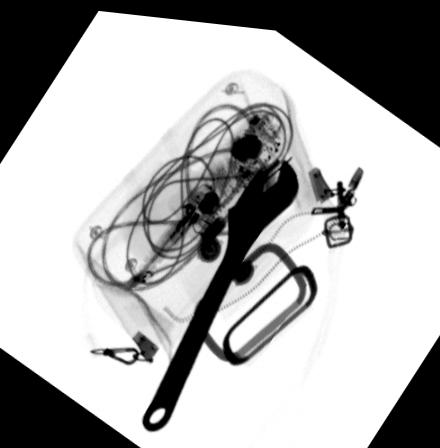Wrench: (138, 146, 299, 430)
